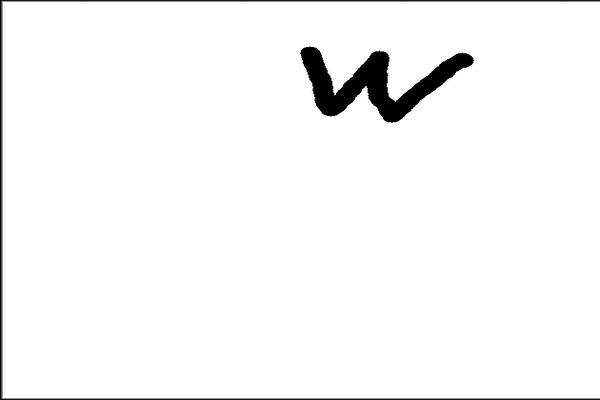w: (279, 27, 516, 145)
